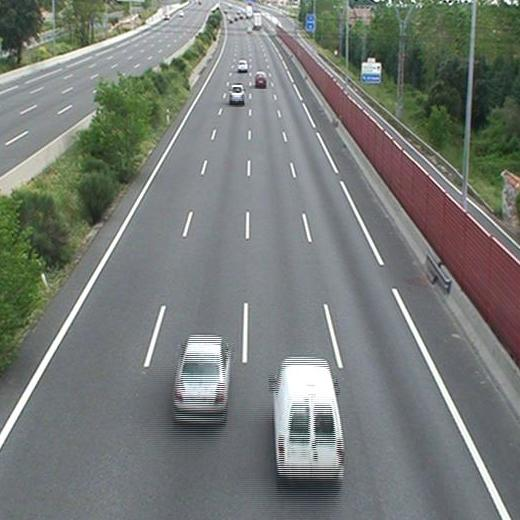car: (174, 337, 228, 417), (229, 85, 244, 102), (255, 73, 268, 86), (238, 60, 247, 71)
van: (275, 358, 342, 477)
